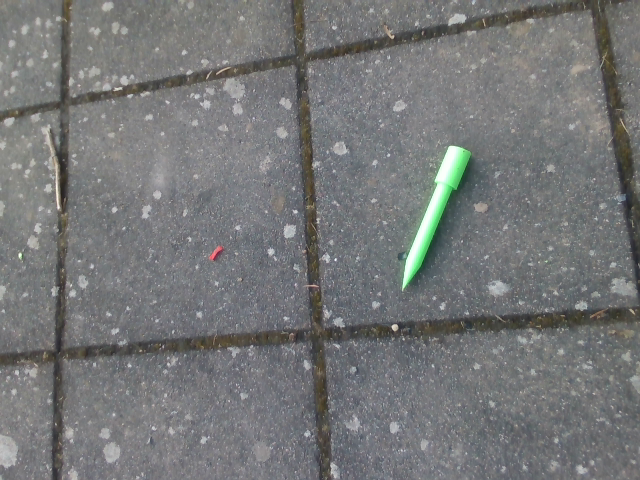Probe: (398, 140, 473, 294)
